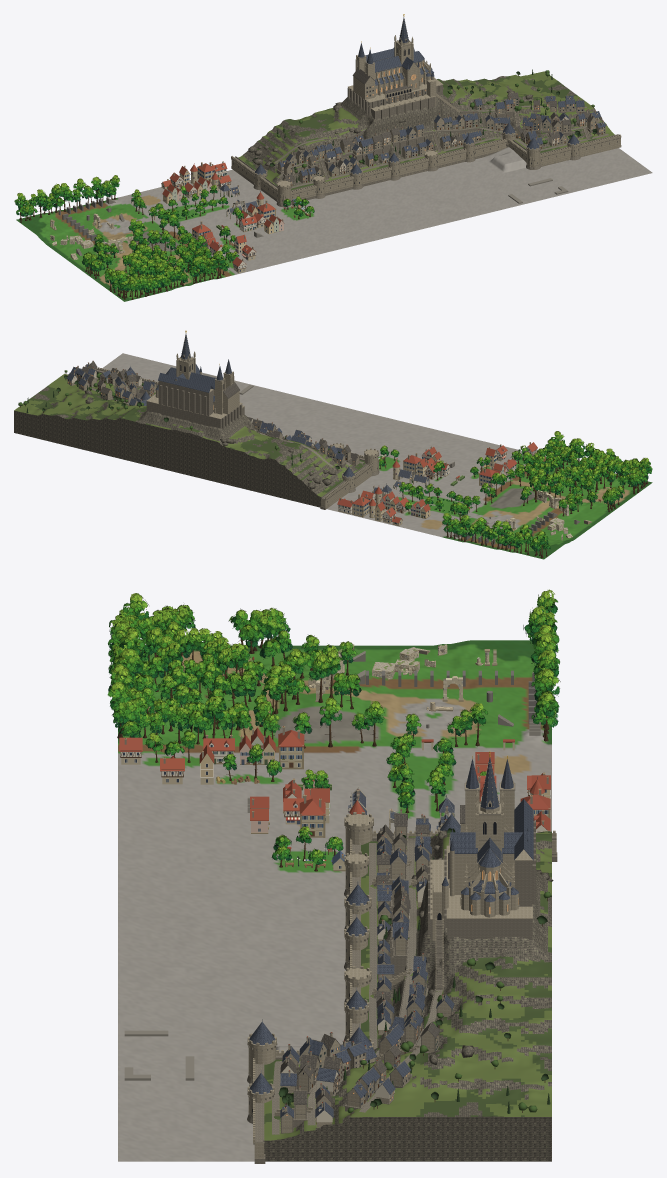
File: fcs-file.glb
The picture shows the model from 3 angles, top to bottom: view 1: azimuth 30°, elevation 25°; view 2: azimuth 150°, elevation 25°; view 3: azimuth 270°, elevation 25°; orthographic projection. The views are drawn at different scales.
Parts seen in each view (by area): view 1: ab_mount, ground; view 2: ab_mount, ground; view 3: ground, ab_mount, t_big_red (×2), t_row_red, mb_static_0.
Boxes of the visible parts, bbox=[...] form: ab_mount: bbox=[231, 14, 621, 207]; ground: bbox=[16, 147, 652, 301]; ab_mount: bbox=[14, 330, 379, 509]; ground: bbox=[102, 353, 652, 559]; ground: bbox=[118, 640, 551, 1161]; ab_mount: bbox=[247, 751, 557, 1163]; t_big_red (×2): bbox=[278, 726, 325, 837]; t_row_red: bbox=[239, 727, 275, 765]; mb_static_0: bbox=[124, 1030, 194, 1080].
Bounding box in the file's own units: 638 × 147 × 235.
25 materials, 14 textured.
